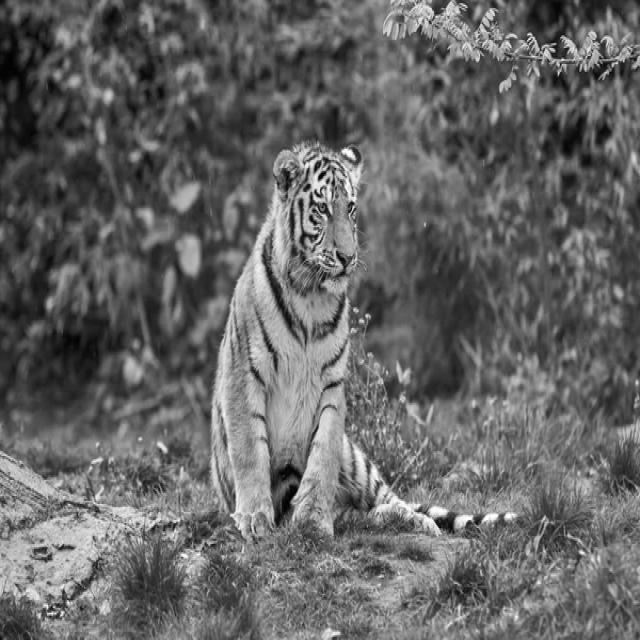Animal: (211, 140, 521, 542)
